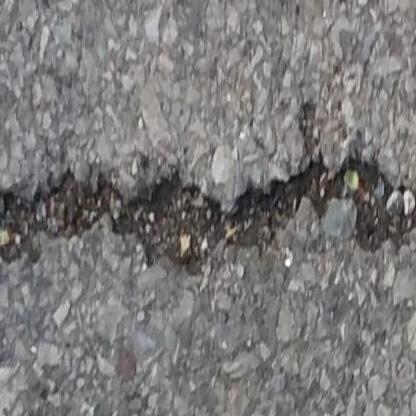Cracks: (0, 97, 416, 278)
